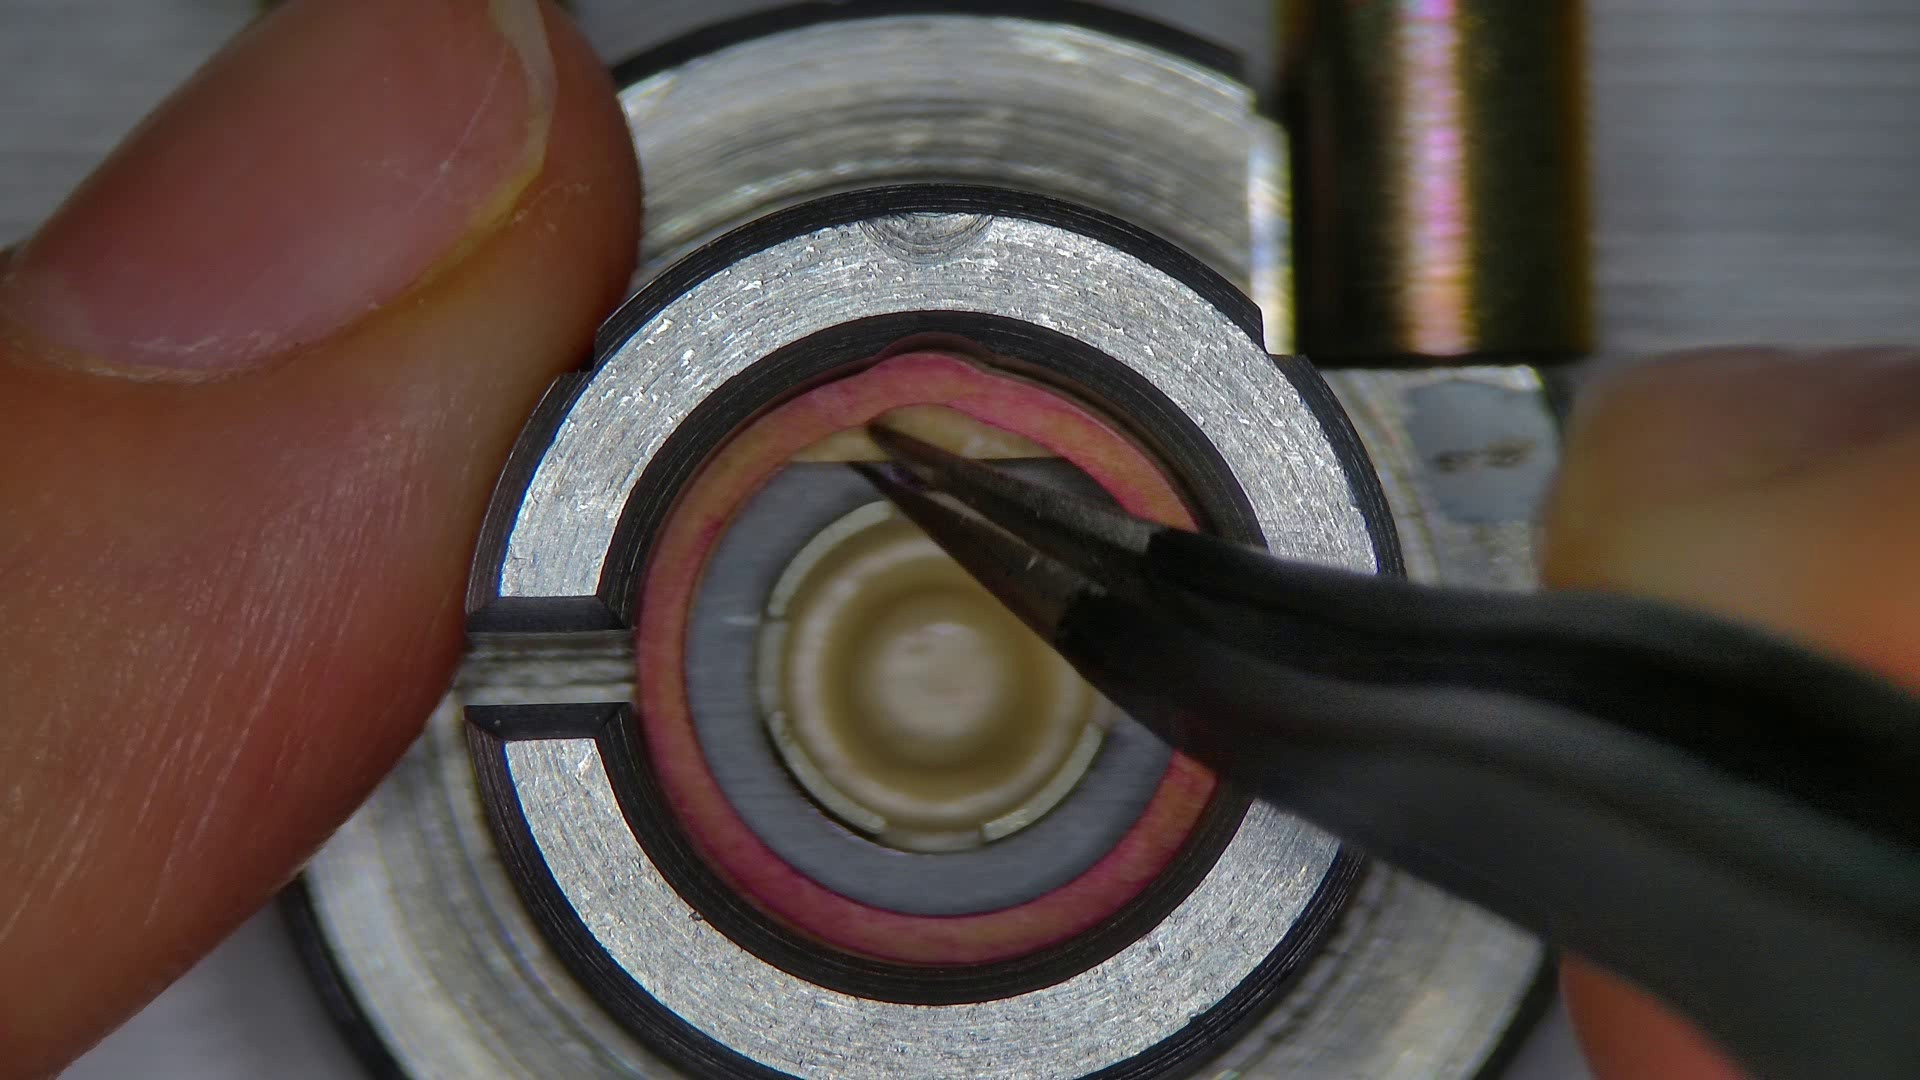GreyOring: (635, 351, 1210, 965)
YellowOring: (688, 465, 1165, 914)
redOring: (876, 404, 1050, 462), (797, 429, 885, 463)
